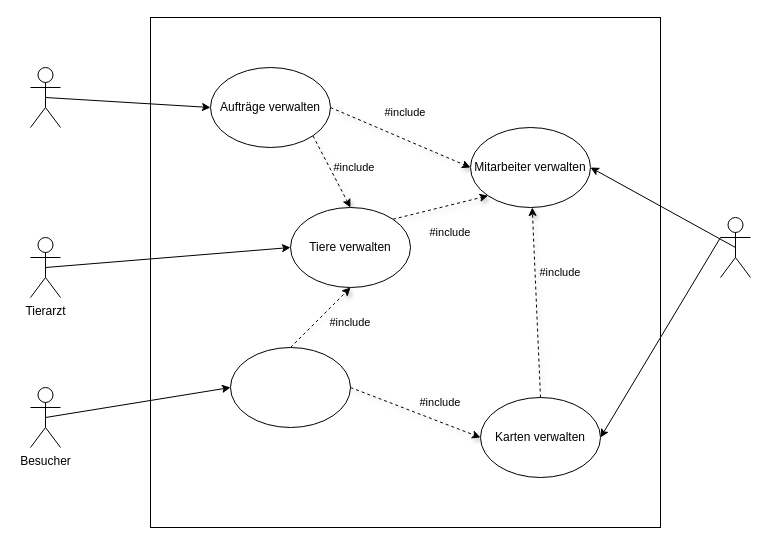
This 782x545 diagram has some shape labels left out. The centre of each missing label's shape, as x and y in pixels:
"Karten anzeigen" goes at (290,387).
"Mitarbeiter" goes at (45,97).
"Verwaltung" goes at (735,247).
